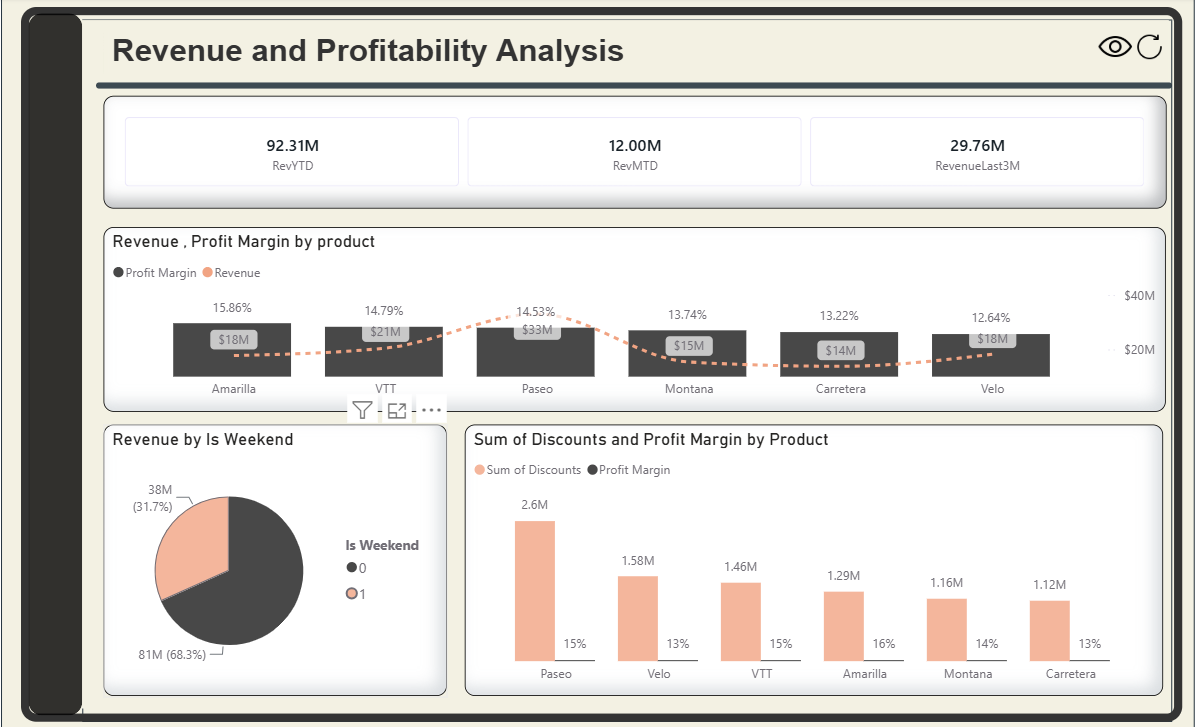

The dashboard page shown, as its layout file describes it:
{"tool":"powerbi","page":{"name":"Duplicate of Page 4","canvas":[1280,720],"ordinal":6},"visuals":[{"type":"shape","box":[9.5,0,1270.5,719.8],"z":0},{"type":"shape","box":[40,28.1,158.7,667.1],"z":0,"group":"g1"},{"type":"shape","box":[21.6,9.5,1246.2,699.5],"z":1000},{"type":"shape","box":[40.3,255,125.6,41.8],"z":1000,"group":"g1"},{"type":"shape","box":[205.7,0,1052.7,173.2],"z":2000},{"type":"textbox","title":"Filters","box":[40.3,240,147.5,36.8],"z":2000,"group":"g1"},{"type":"textbox","title":"Revenue and Profitability Analysis","box":[212.4,33.8,518.2,40.6],"z":3000},{"type":"slicer","fields":{"Values":["Fact_Financial.Year"]},"box":[48.4,290.5,121.9,55.5],"z":3000,"group":"g1"},{"type":"image","box":[1224.3,22.9,24.3,51.4],"z":4000},{"type":"slicer","fields":{"Values":["Fact_Financial.Product"]},"box":[49.4,581.4,121.9,55.5],"z":4000,"group":"g1"},{"type":"lineClusteredColumnComboChart","title":"Revenue , Profit Margin by product","fields":{"Category":["Fact_Financial.Product"],"Y2":["Dax Messures.Revenue"],"Y":["Dax Messures.Profit Margin"]},"box":[213.3,225.3,1038.9,180.6],"z":5000},{"type":"slicer","fields":{"Values":["Fact_Financial.Country"]},"box":[49,436,121.9,55.5],"z":5000,"group":"g1"},{"type":"cardVisual","fields":{"Data":["Dax Messures.RevYTD","Dax Messures.RevMTD","Dax Messures.RevenueLast3M"]},"box":[212.9,97.1,1040,110],"z":6000},{"type":"slicer","fields":{"Values":["Fact_Financial.Segment"]},"box":[49.7,508.7,121.9,55.5],"z":6000,"group":"g1"},{"type":"slicer","fields":{"Values":["Dim_Date.Month Short"]},"box":[48.7,363.2,121.9,55.5],"z":7000,"group":"g1"},{"type":"image","box":[1150.3,25.5,31.8,45.2],"z":7500,"group":"g1"},{"type":"image","box":[1185.7,25.7,32.9,45.7],"z":7500},{"type":"lineClusteredColumnComboChart","fields":{"Category":["Fact_Financial.Product"],"Y":["Sum(Fact_Financial.Discounts)","Dax Messures.Profit Margin"]},"box":[565.7,418.6,682.9,265.7],"z":10000},{"type":"pieChart","fields":{"Y":["Dax Messures.Revenue"],"Category":["Dim_Date.Is Weekend"]},"box":[212.9,418.6,335.7,265.7],"z":11000},{"type":"group","id":"g1","title":"Filters","box":[40,25.5,1142.1,669.8],"z":13000}]}

Visuals, with their boxes on the page's 1280x720 design canvas (x1, y1, x2, y2). These are canvas units, not pixel positions in the 1195x727 screenshot, which may show the page scaled, cropped or inside an application window:
shape: (left=10, top=0, right=1280, bottom=720)
shape: (left=40, top=28, right=199, bottom=695)
shape: (left=22, top=10, right=1268, bottom=709)
shape: (left=40, top=255, right=166, bottom=297)
shape: (left=206, top=0, right=1258, bottom=173)
"Filters" textbox: (left=40, top=240, right=188, bottom=277)
"Revenue and Profitability Analysis" textbox: (left=212, top=34, right=731, bottom=74)
slicer - Fact_Financial.Year: (left=48, top=290, right=170, bottom=346)
image: (left=1224, top=23, right=1249, bottom=74)
slicer - Fact_Financial.Product: (left=49, top=581, right=171, bottom=637)
"Revenue , Profit Margin by product" lineClusteredColumnComboChart: (left=213, top=225, right=1252, bottom=406)
slicer - Fact_Financial.Country: (left=49, top=436, right=171, bottom=492)
cardVisual - Dax Messures.RevYTD x Dax Messures.RevMTD: (left=213, top=97, right=1253, bottom=207)
slicer - Fact_Financial.Segment: (left=50, top=509, right=172, bottom=564)
slicer - Dim_Date.Month Short: (left=49, top=363, right=171, bottom=419)
image: (left=1150, top=26, right=1182, bottom=71)
image: (left=1186, top=26, right=1219, bottom=71)
lineClusteredColumnComboChart - Fact_Financial.Product x Sum(Fact_Financial.Discounts): (left=566, top=419, right=1249, bottom=684)
pieChart - Dax Messures.Revenue x Dim_Date.Is Weekend: (left=213, top=419, right=549, bottom=684)
"Filters" group: (left=40, top=26, right=1182, bottom=695)
